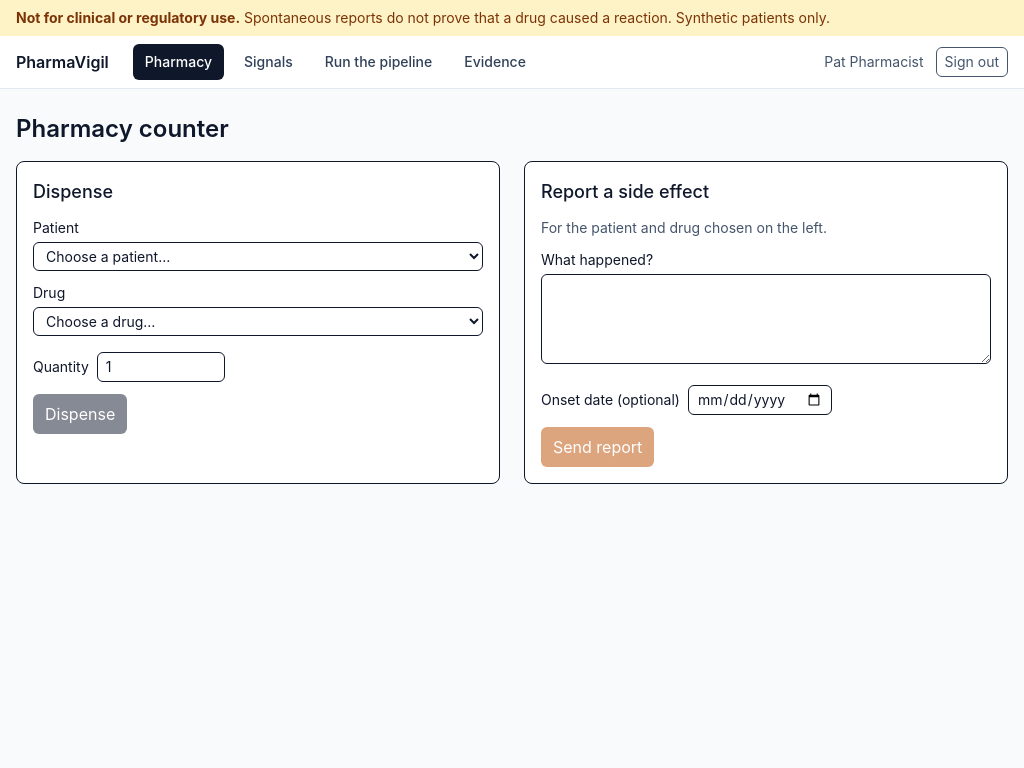
Test case: PharmacyPage › warns before dispensing an Rx-only drug without a prescription and shows the refusal
Select "Example, Ana (1970-02-03)" in the dropdown labelled "Patient" at (258, 256), box left=33, top=242, right=483, bottom=271
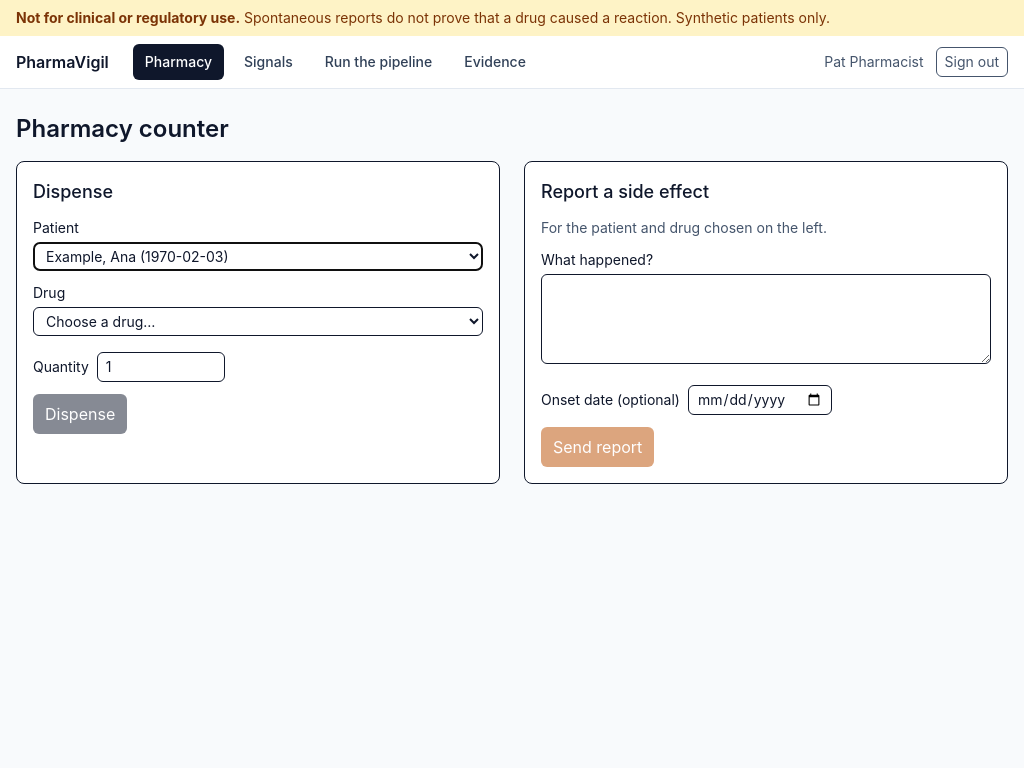
Select "Lisinopril 10 mg — 5 in date (Rx)" in the dropdown labelled "Drug" at (258, 322), box left=33, top=307, right=483, bottom=336
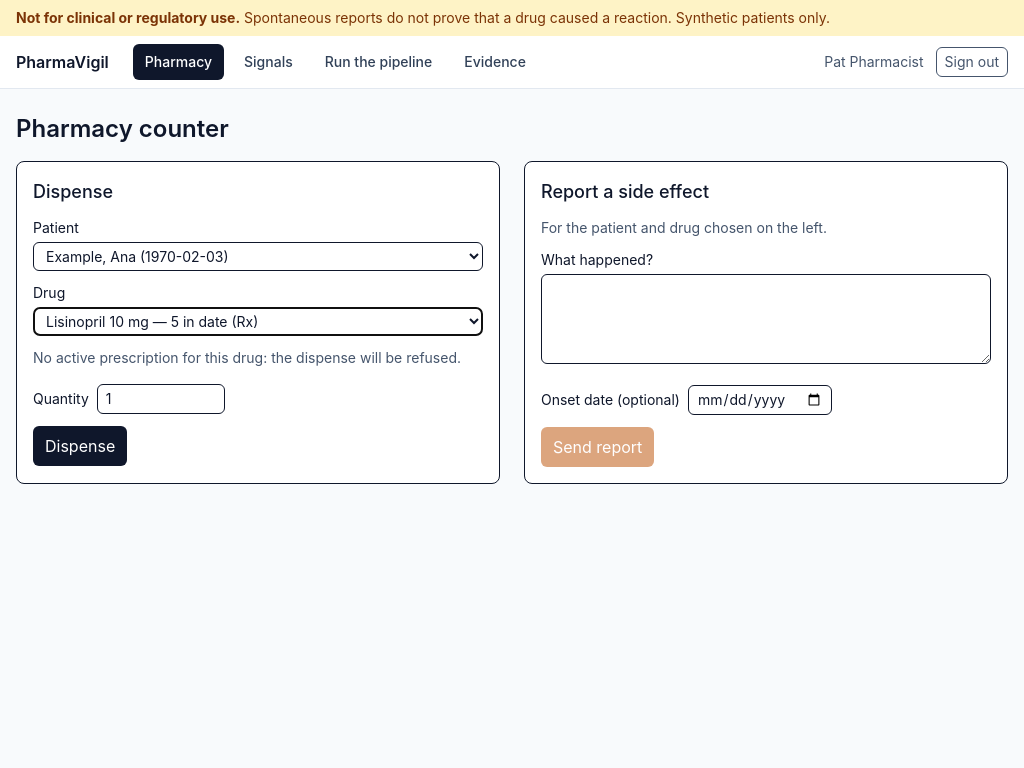
Now the text "No active prescription for this drug" is shown, box left=33, top=349, right=461, bottom=366
Click the button "Dispense".
click(80, 446)  # box left=33, top=426, right=127, bottom=466
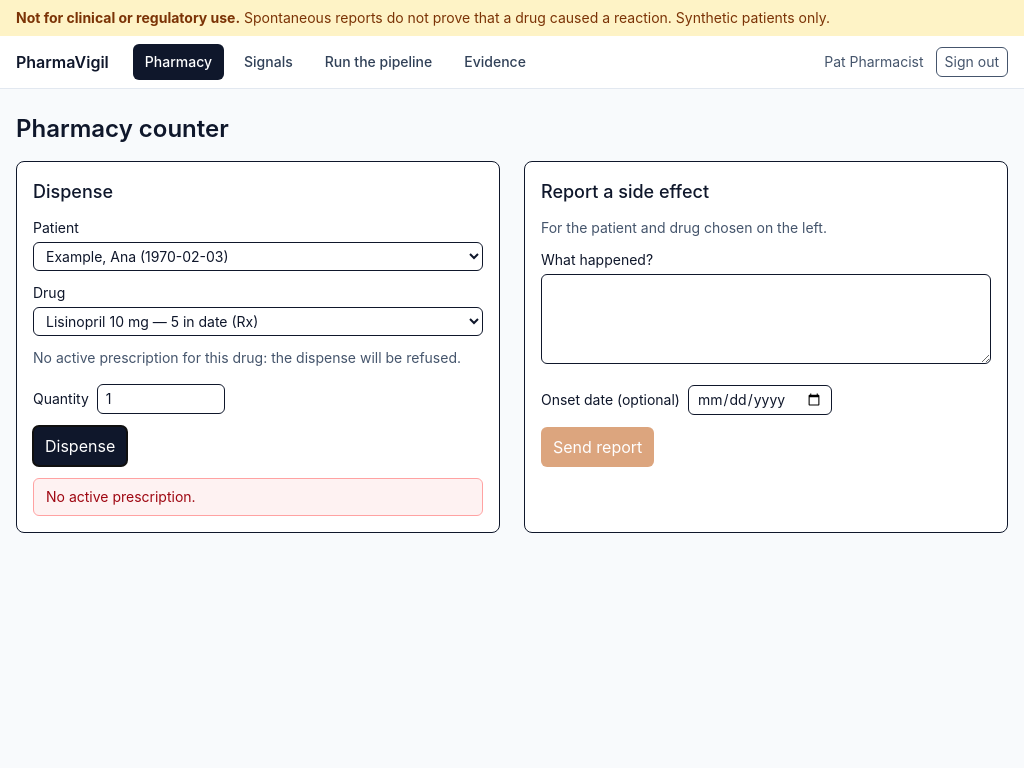
Now the message reads "No active prescription.", box left=46, top=488, right=196, bottom=505
